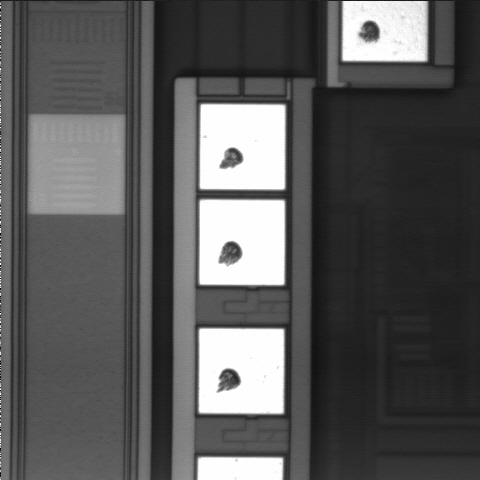pad: (199, 200, 285, 285), (200, 104, 285, 189), (199, 329, 284, 414)
